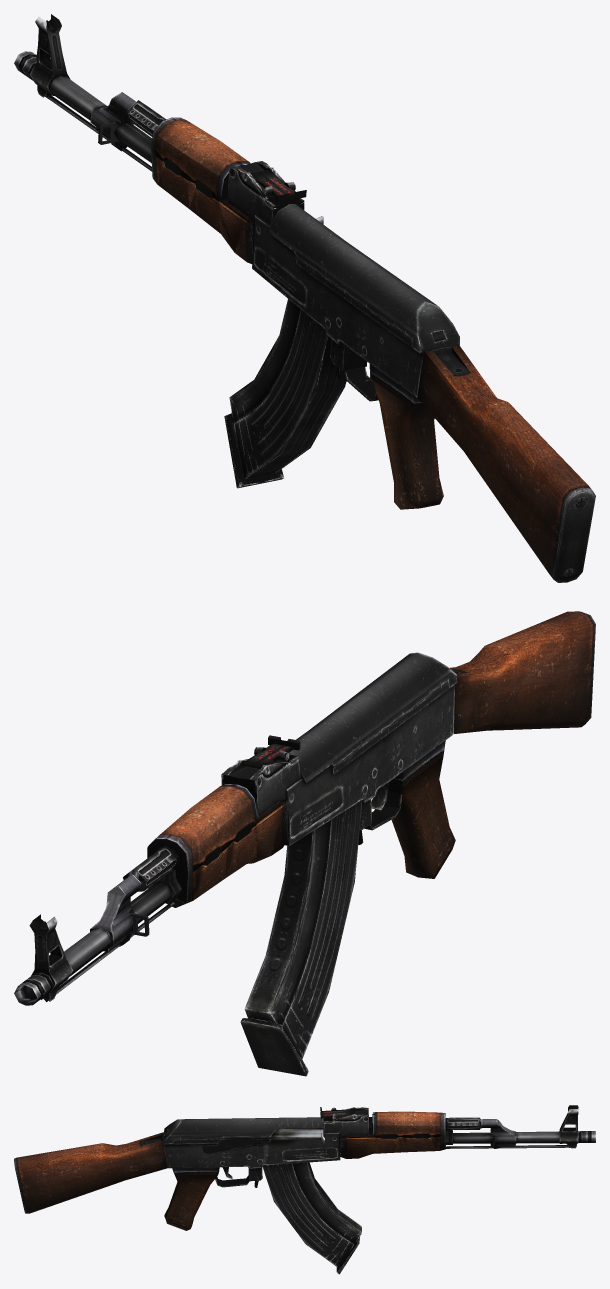
The model's file is newak.glb.
The picture shows the model from 3 angles, top to bottom: view 1: azimuth 30°, elevation 25°; view 2: azimuth 150°, elevation 25°; view 3: azimuth 270°, elevation 25°; orthographic projection. The views are drawn at different scales.
Visible parts, largest first — view 1: AK47n; view 2: AK47n; view 3: AK47n.
Boxes of the visible parts, x1=… form: AK47n: x1=14, y1=14, x2=595, y2=582; AK47n: x1=14, y1=611, x2=595, y2=1076; AK47n: x1=14, y1=1105, x2=595, y2=1274.
Size of the model in its own units: 0.073 by 0.2925 by 0.9417.
Materials: 1 (1 with a texture image).
